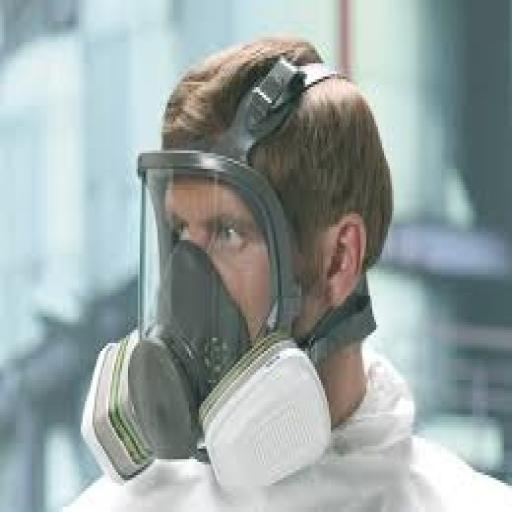mask: (70, 135, 319, 485)
